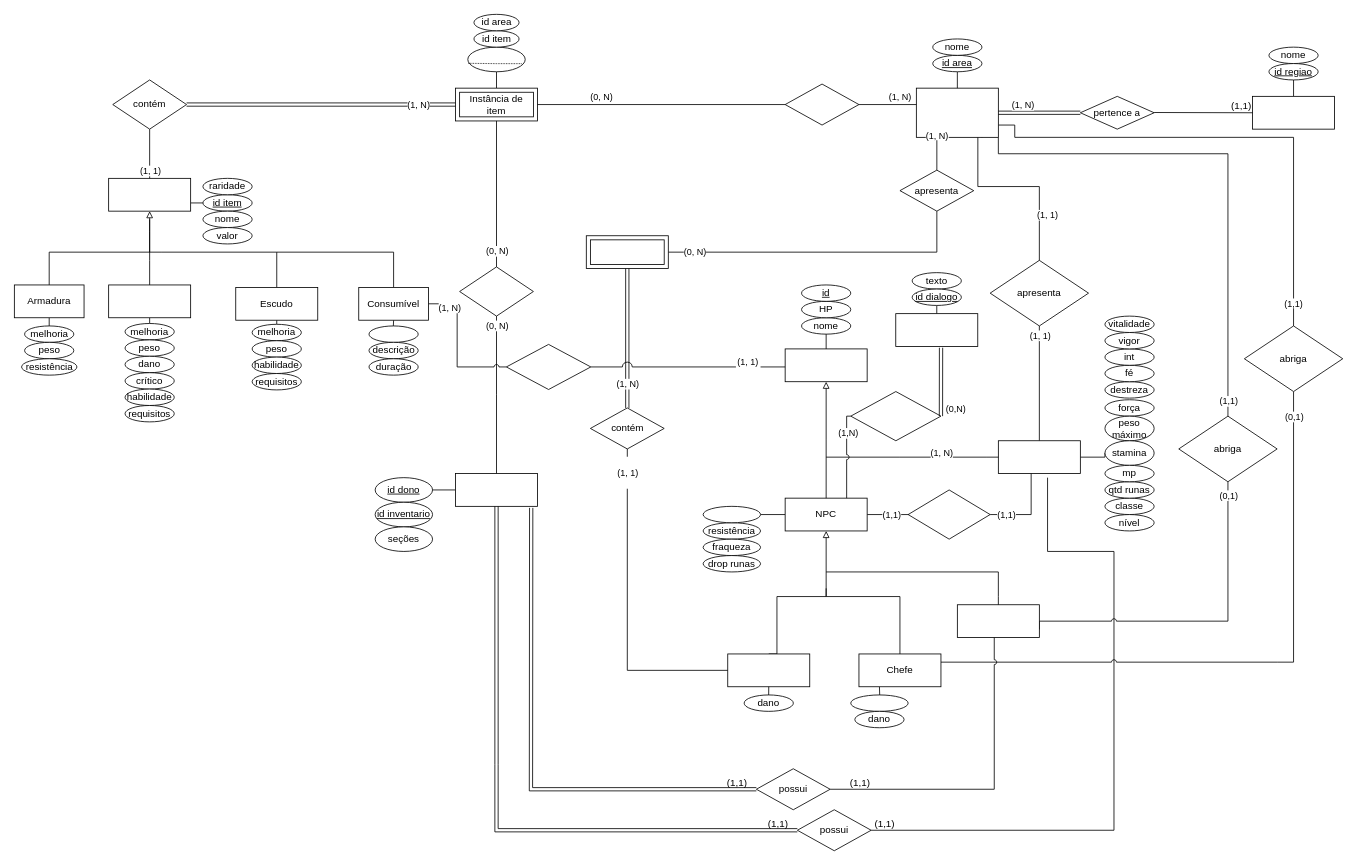
This 1357x865 diagram has some shape labels left out. Here are the shapes that lost their labels. From the top down, the box of each, then its label:
(467, 46, 525, 72): id instancia
(784, 83, 859, 125): contida em
(916, 87, 998, 137): Área
(1252, 96, 1335, 129): Região
(108, 178, 191, 211): Item
(585, 235, 668, 269): Instância de inimigo
(108, 284, 191, 318): Arma
(459, 266, 533, 316): está em
(368, 325, 418, 342): efeito
(895, 313, 978, 346): Diálogo
(506, 344, 591, 390): é consumido por
(784, 348, 867, 382): Personagem
(850, 391, 941, 441): fala
(998, 440, 1080, 474): Jogador
(455, 473, 538, 506): Inventário
(702, 506, 761, 523): está hostil
(907, 489, 990, 539): dialoga com
(957, 604, 1039, 638): Ferreiro
(727, 653, 810, 687): Inimigo
(850, 694, 908, 711): lembrança
